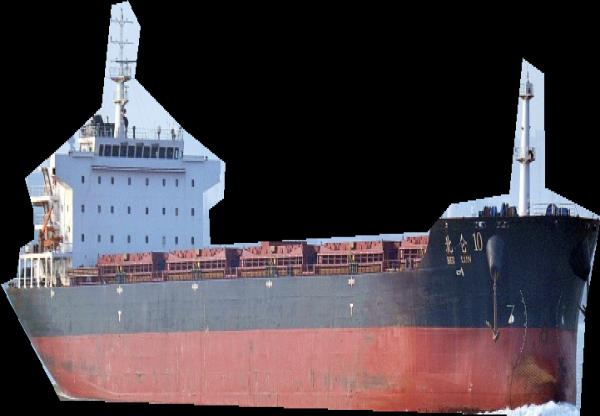Bulkers: (1, 0, 600, 416)
